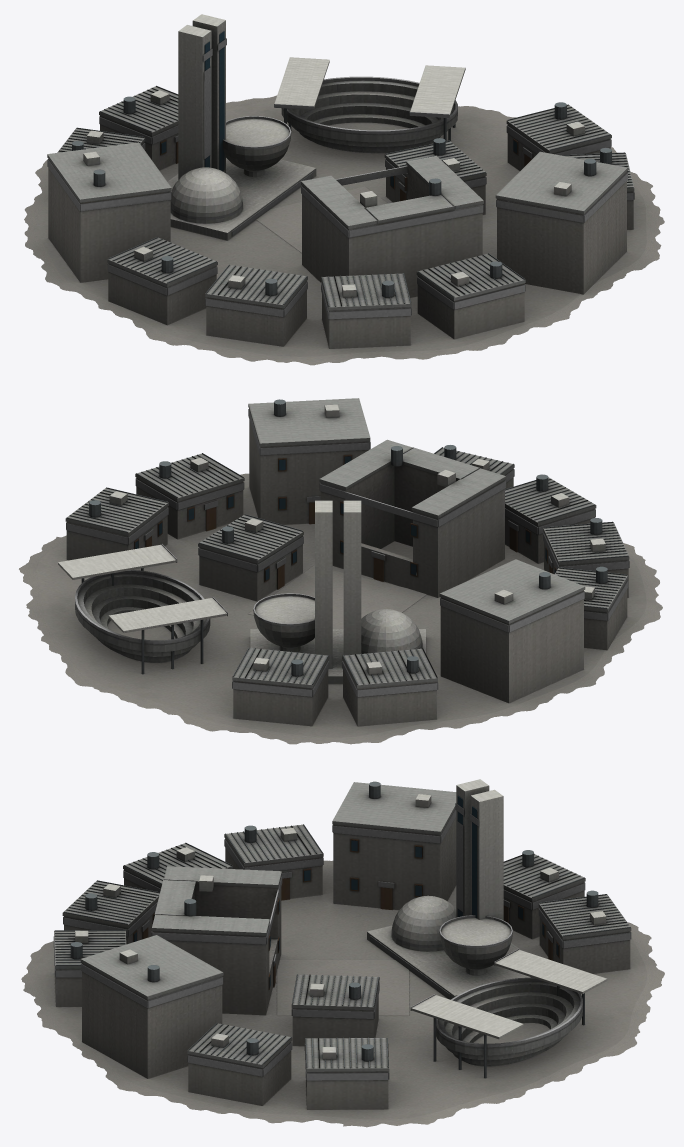
File: modern-town-medium-a-americas.glb
3 views of the same model, one above another, from view 1: azimuth 30°, elevation 25°; view 2: azimuth 150°, elevation 25°; view 3: azimuth 270°, elevation 25° (orthographic).
Visible parts, largest first — view 1: LOD0; view 2: LOD0; view 3: LOD0.
Boxes of the visible parts, <box> form: LOD0: <box>24,14,664,365</box>; LOD0: <box>19,398,662,744</box>; LOD0: <box>21,779,664,1127</box>.
Size of what is drawn, in the model's own units: 5.98 by 1.68 by 5.98.
Materials: 3 (3 with a texture image).
